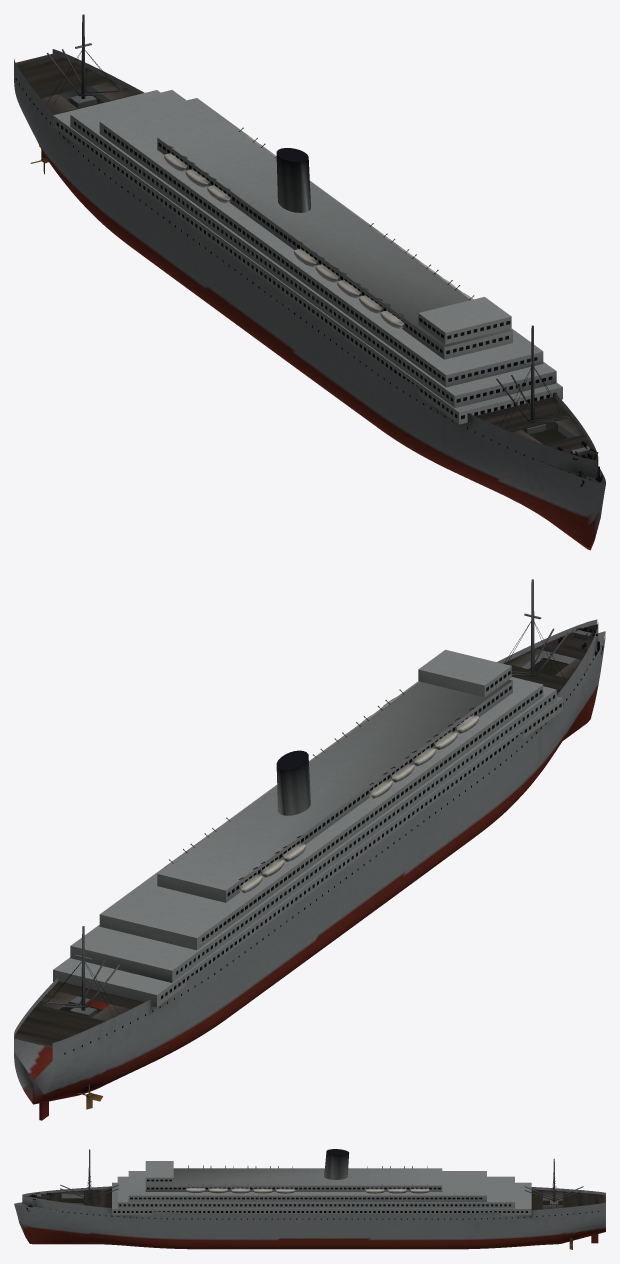
File: model_built.glb
3 views of the same model, one above another, from view 1: azimuth 30°, elevation 25°; view 2: azimuth 150°, elevation 25°; view 3: azimuth 270°, elevation 25° (orthographic). The views are drawn at different scales.
Parts seen in each view (by area): view 1: main; view 2: main; view 3: main.
Part boxes in pixels (<box>): main: <box>14,14,605,550</box>; main: <box>14,579,605,1120</box>; main: <box>14,1149,605,1249</box>.
Bounding box in the file's own units: 23.72 × 37.39 × 212.
1 material, 1 textured.
